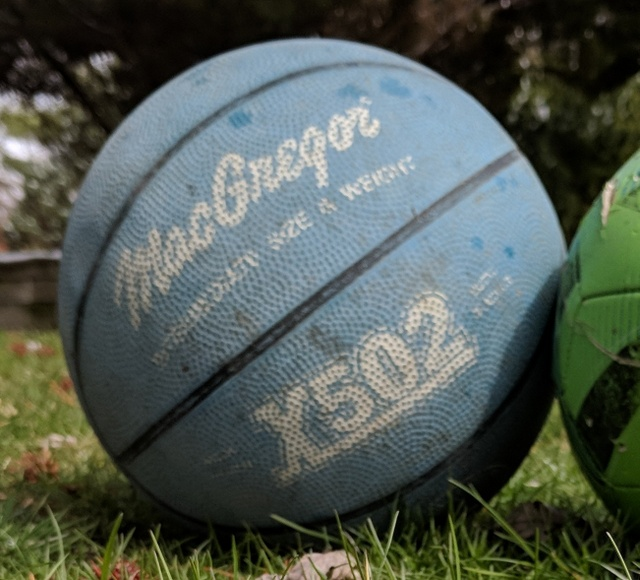ball: (56, 36, 570, 551)
